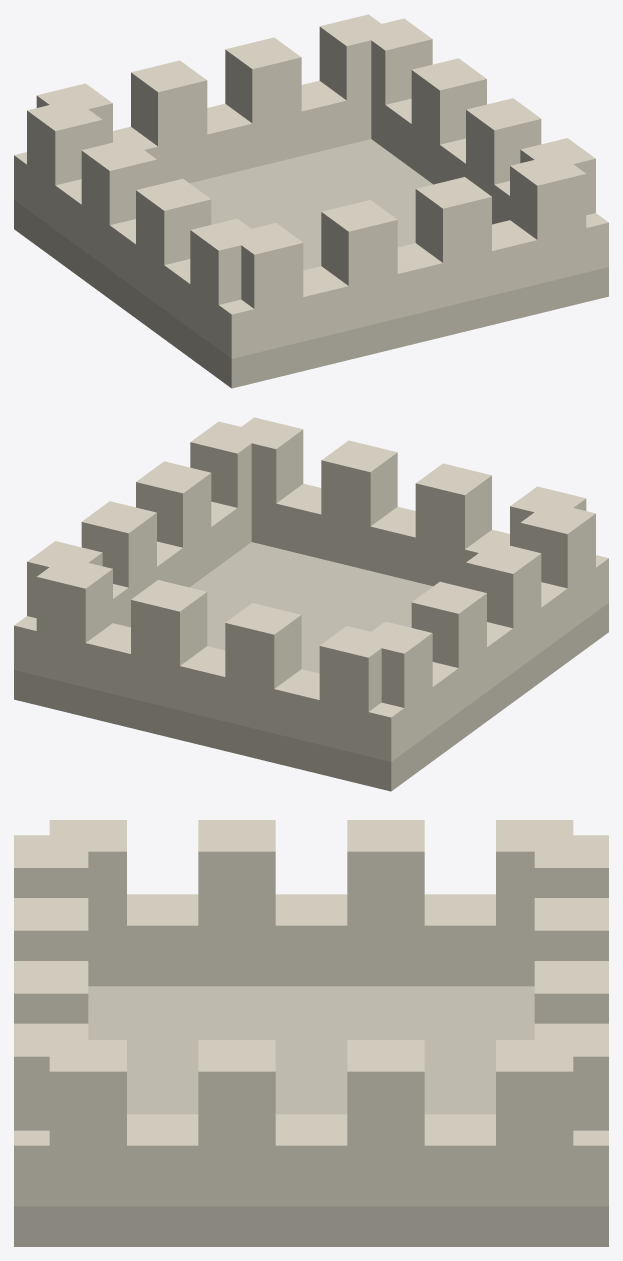
The model's file is square-tower-battlement.glb.
3 renders of one model, top to bottom at view 1: azimuth 30°, elevation 25°; view 2: azimuth 150°, elevation 25°; view 3: azimuth 270°, elevation 25°, orthographic. The views are drawn at different scales.
Parts seen in each view (by area): view 1: square-tower-battlement; view 2: square-tower-battlement; view 3: square-tower-battlement.
Part boxes in pixels (x1,y1,x2,y2): square-tower-battlement: (14, 14, 608, 388); square-tower-battlement: (14, 417, 608, 791); square-tower-battlement: (14, 820, 608, 1246).
Bounding box in the file's own units: 4 × 1.3 × 4.
